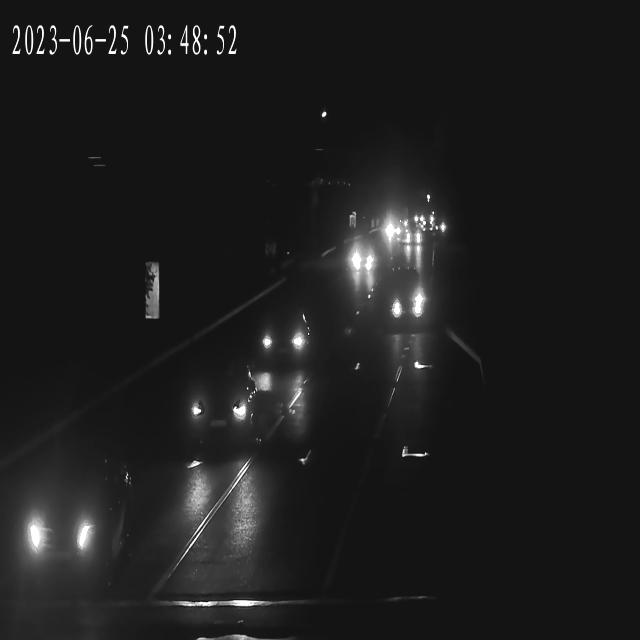Car: (0, 450, 130, 593), (178, 364, 256, 447), (255, 312, 313, 366), (384, 280, 424, 328), (345, 244, 377, 275), (382, 220, 404, 238), (404, 231, 425, 247), (432, 220, 450, 235), (412, 214, 430, 227)
